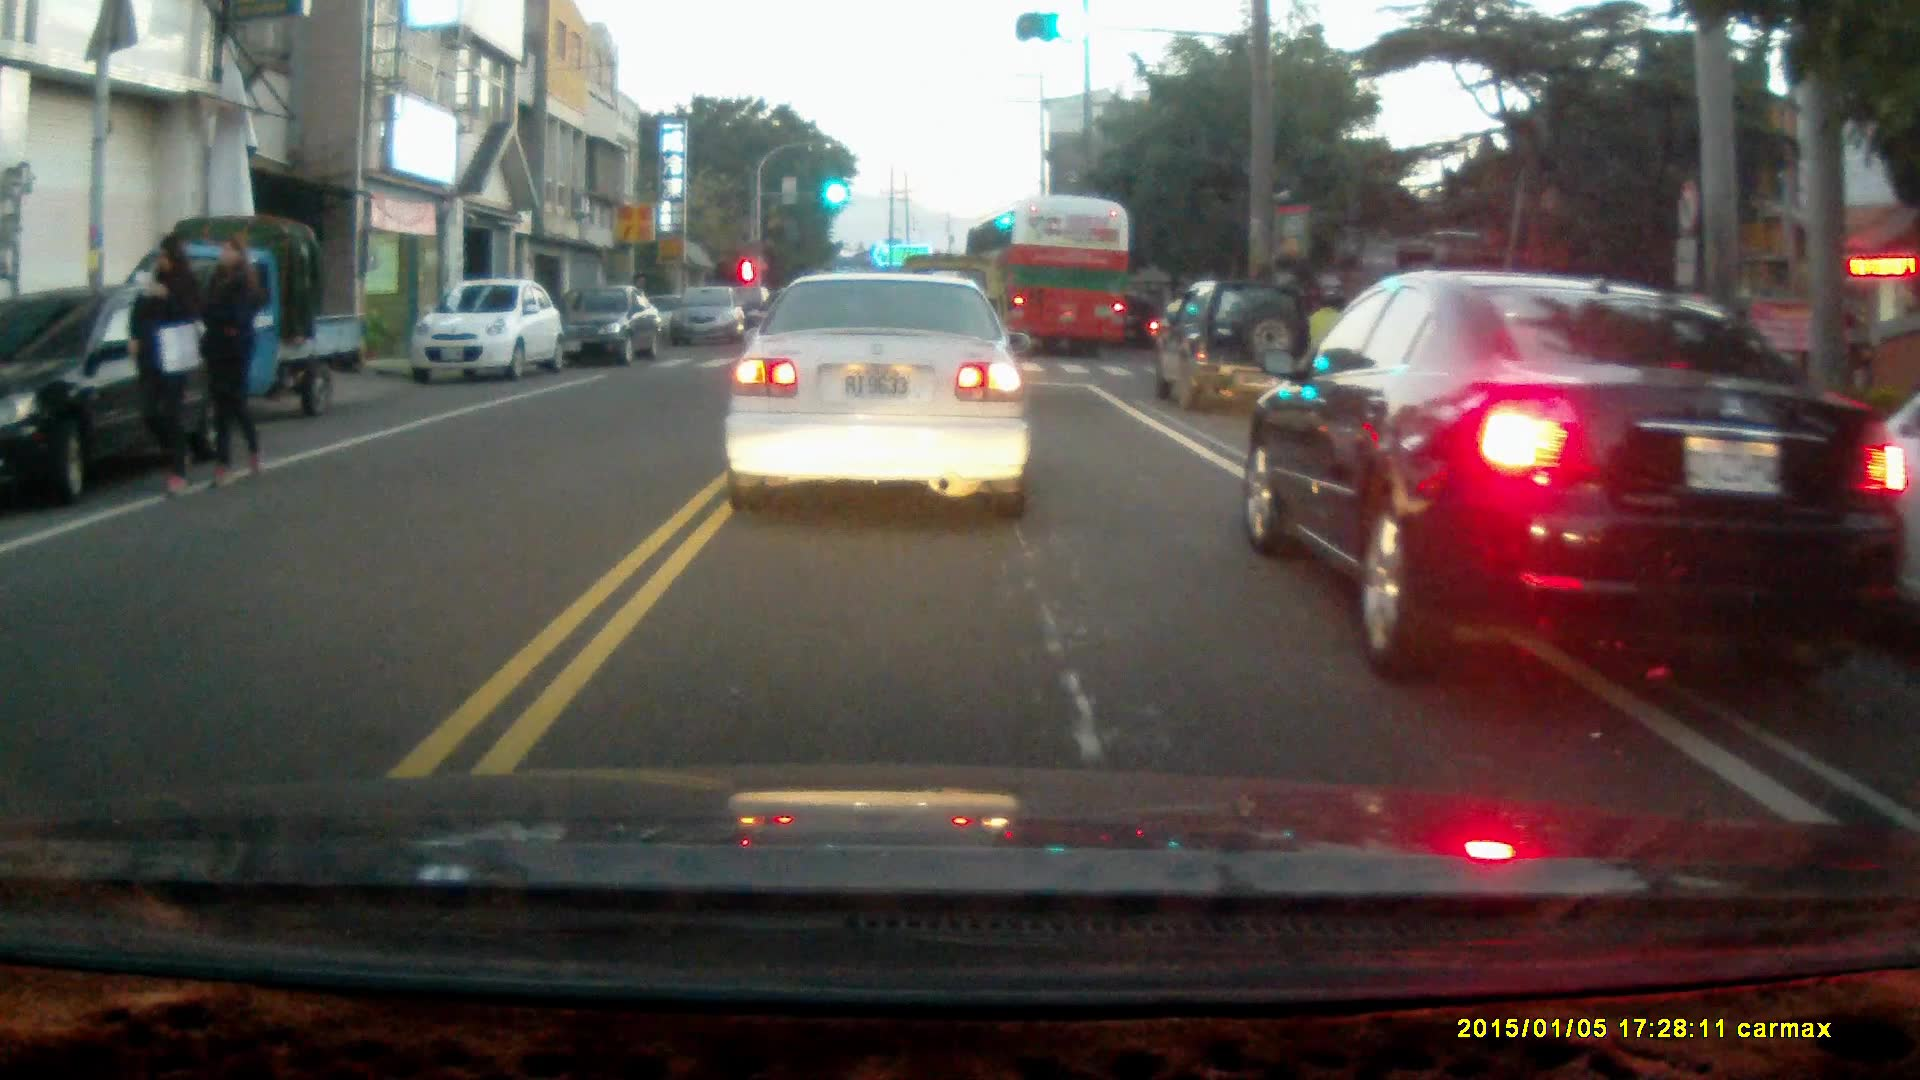pedestrian: (125, 232, 203, 493), (198, 231, 264, 486)
rider: (1117, 291, 1160, 353)
vehicle: (1242, 271, 1895, 674), (721, 266, 1031, 519), (1, 280, 256, 507), (120, 213, 369, 419), (963, 197, 1129, 359), (1157, 276, 1313, 412), (411, 279, 564, 383), (552, 279, 666, 369), (668, 286, 751, 350)
